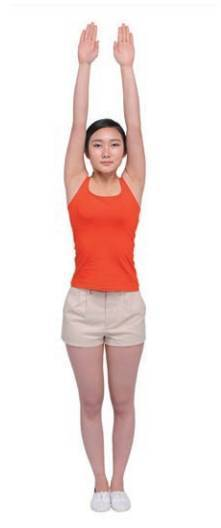handsup: (54, 19, 177, 515)
